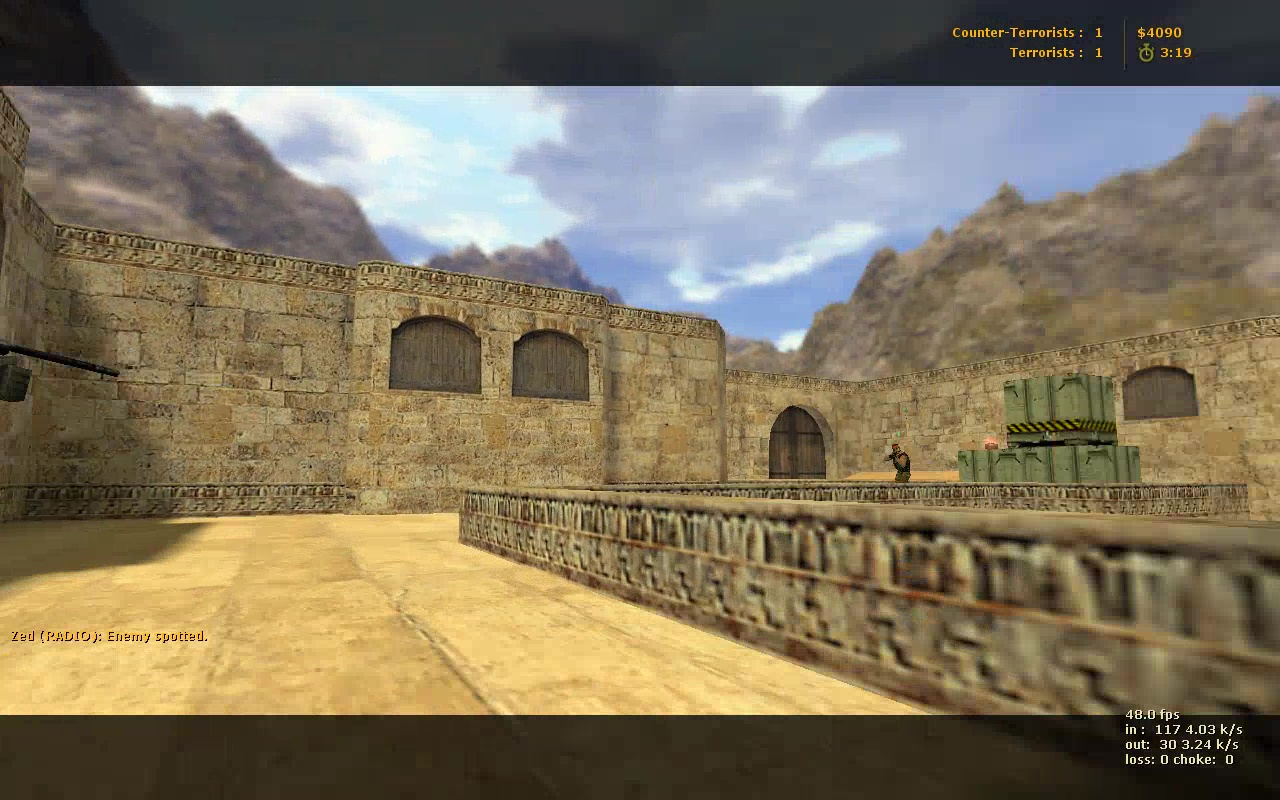terr1: (885, 444, 915, 484)
